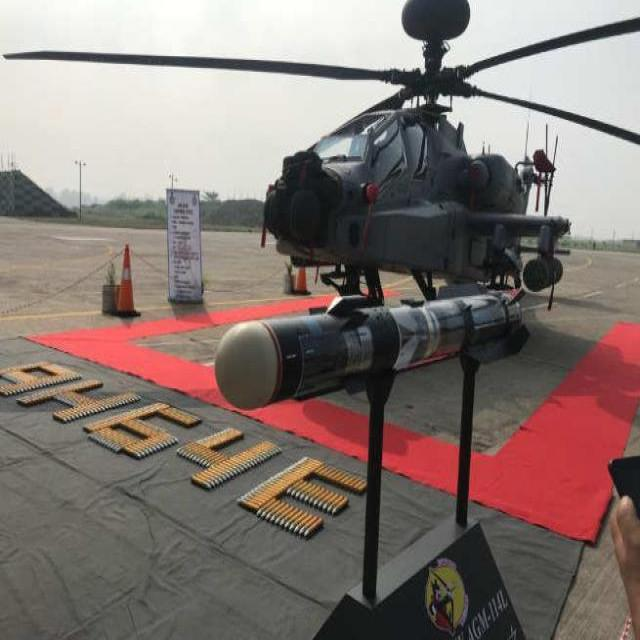MIL_HELO: (15, 1, 640, 318)
